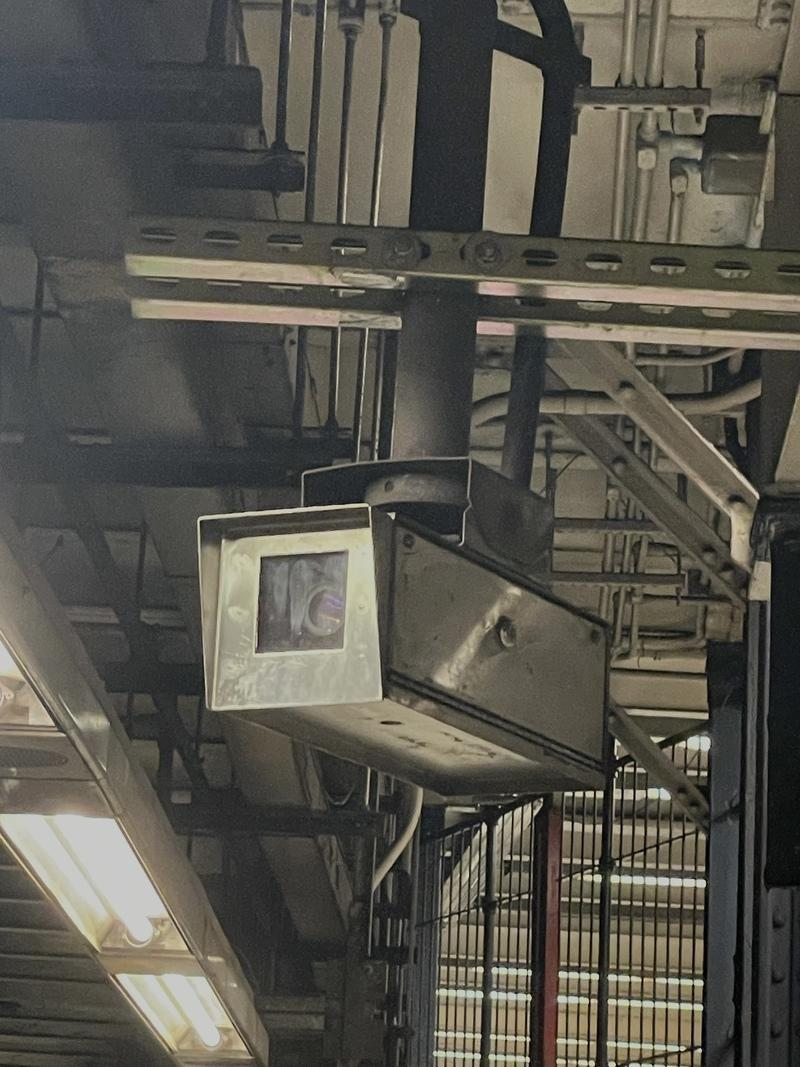box: (200, 524, 609, 795)
